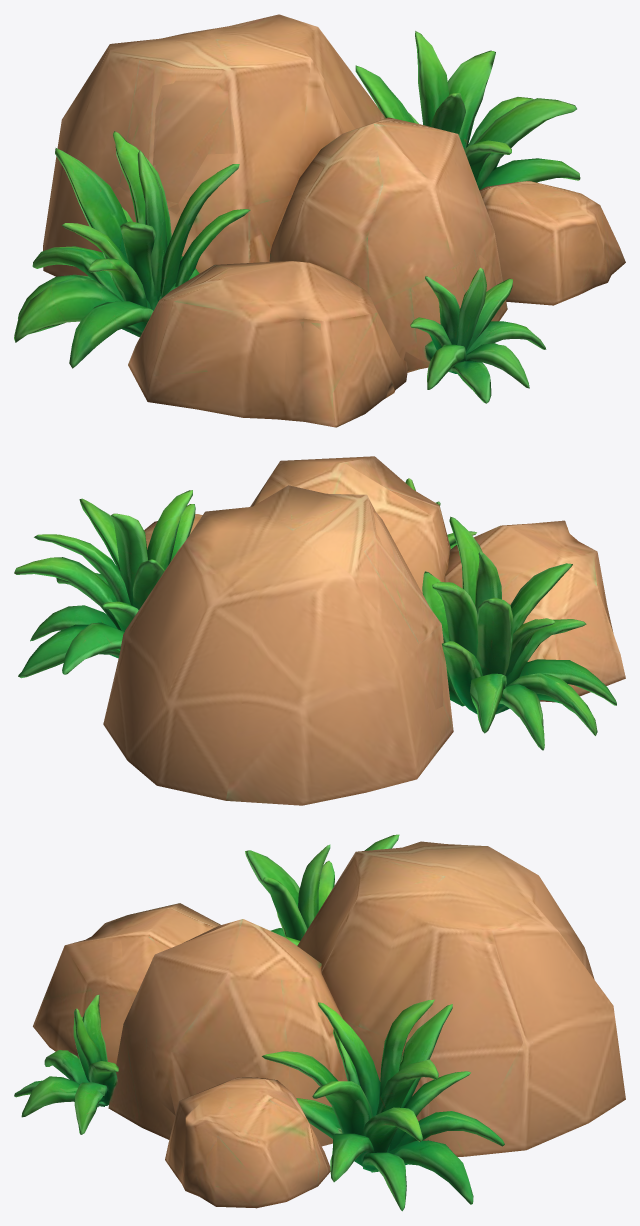
File: s2_r6c5_rock_shrub_cluster.glb
The picture shows the model from 3 angles, top to bottom: view 1: azimuth 30°, elevation 25°; view 2: azimuth 150°, elevation 25°; view 3: azimuth 270°, elevation 25°; orthographic projection. The views are drawn at different scales.
Size of the model in its own units: 1 by 0.3833 by 0.985.
1 material, 1 textured.
